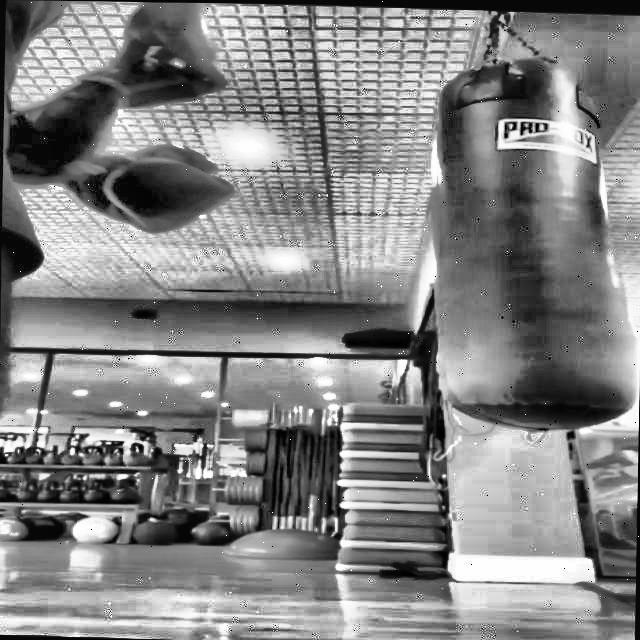boxing-bag: (431, 7, 640, 434)
